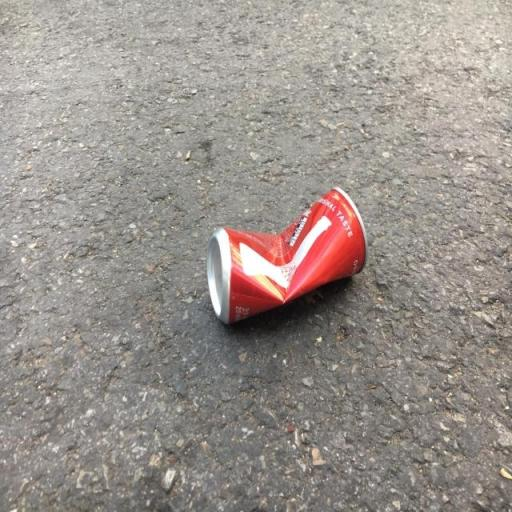metal: (183, 163, 390, 355)
